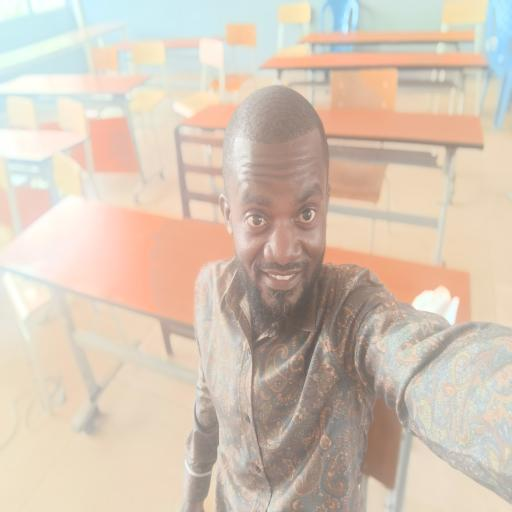MATTHIEU: (223, 82, 335, 338)
